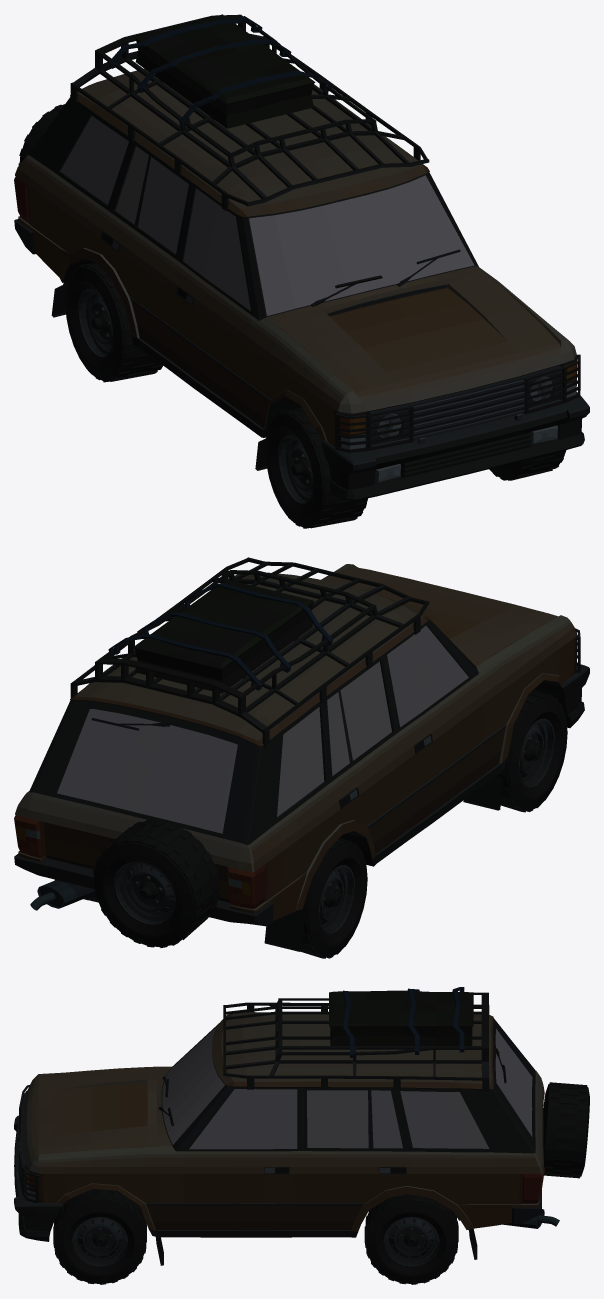
Rendered from Rangerover.glb.
3 renders of one model, top to bottom at view 1: azimuth 30°, elevation 25°; view 2: azimuth 150°, elevation 25°; view 3: azimuth 270°, elevation 25°, orthographic. The views are drawn at different scales.
Parts seen in each view (by area): view 1: Car002, Bag, Car, Tire3, Tire4, Car003, Car001, Tire1, Spare_Tire; view 2: Car002, Bag, Car, Spare_Tire, Tire3, Tire4, Car010, Car012, Car011; view 3: Car002, Bag, Car, Tire1, Tire2, Spare_Tire, Car001, Car010.
Part boxes in pixels (x1=…): Car002: x1=14, y1=68, x2=589, y2=500; Bag: x1=108, y1=14, x2=332, y2=128; Car: x1=70, y1=14, x2=429, y2=211; Tire3: x1=265, y1=408, x2=367, y2=528; Tire4: x1=65, y1=262, x2=162, y2=382; Car003: x1=335, y1=406, x2=413, y2=452; Car001: x1=523, y1=354, x2=580, y2=414; Tire1: x1=489, y1=450, x2=566, y2=480; Spare_Tire: x1=18, y1=104, x2=64, y2=165; Car002: x1=14, y1=564, x2=589, y2=926; Bag: x1=108, y1=579, x2=332, y2=693; Car: x1=70, y1=557, x2=429, y2=747; Spare_Tire: x1=92, y1=819, x2=220, y2=947; Tire3: x1=497, y1=689, x2=567, y2=812; Tire4: x1=296, y1=838, x2=367, y2=958; Car010: x1=30, y1=880, x2=95, y2=910; Car012: x1=264, y1=911, x2=304, y2=951; Car011: x1=463, y1=775, x2=502, y2=810; Car002: x1=14, y1=1012, x2=544, y2=1241; Bag: x1=329, y1=987, x2=473, y2=1057; Car: x1=223, y1=992, x2=489, y2=1091; Tire1: x1=53, y1=1189, x2=146, y2=1284; Tire2: x1=364, y1=1194, x2=458, y2=1284; Spare_Tire: x1=543, y1=1082, x2=589, y2=1178; Car001: x1=19, y1=1150, x2=41, y2=1203; Car010: x1=503, y1=1209, x2=559, y2=1228.
Bounding box in the file's own units: 2.52 × 2.92 × 6.49.
Materials: 2 (1 with a texture image).
